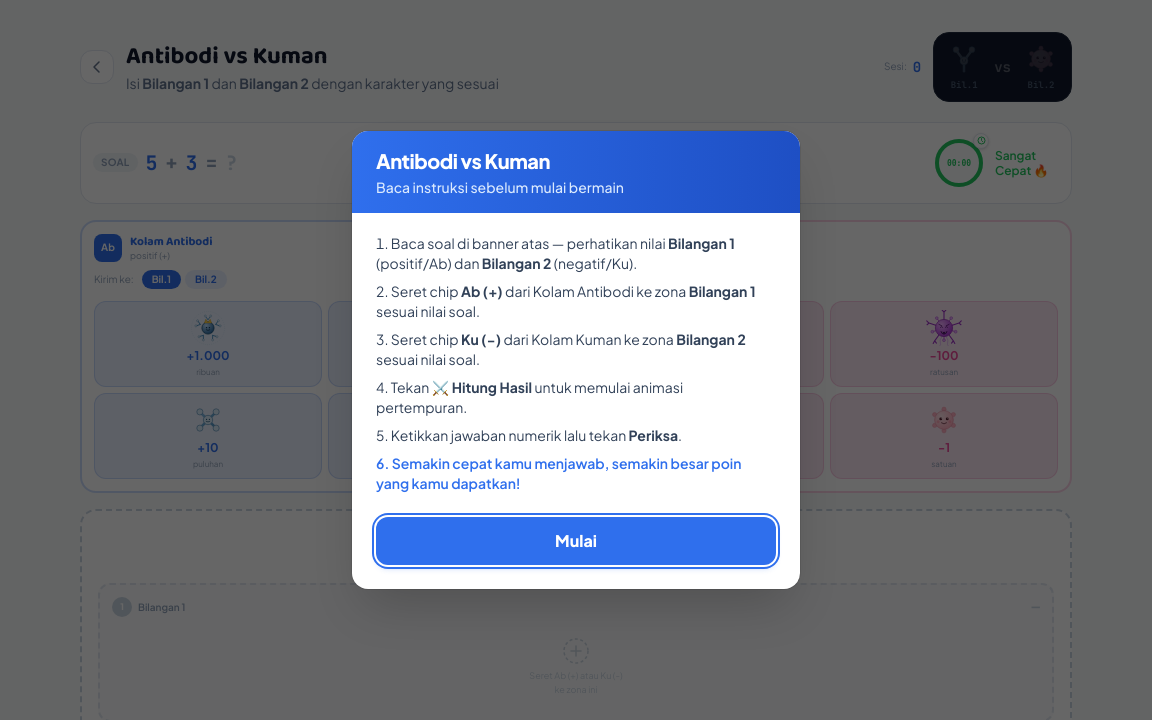
GameVirusPage — gameStarted state (game-intro-popup, Task 4.3) › setelah klik Mulai: modal tidak ada di DOM dan startTimer dipanggil tepat sekali
Click "Mulai"
Step 1. Click the button "Mulai" → point(576, 541), box [376,517,776,565]
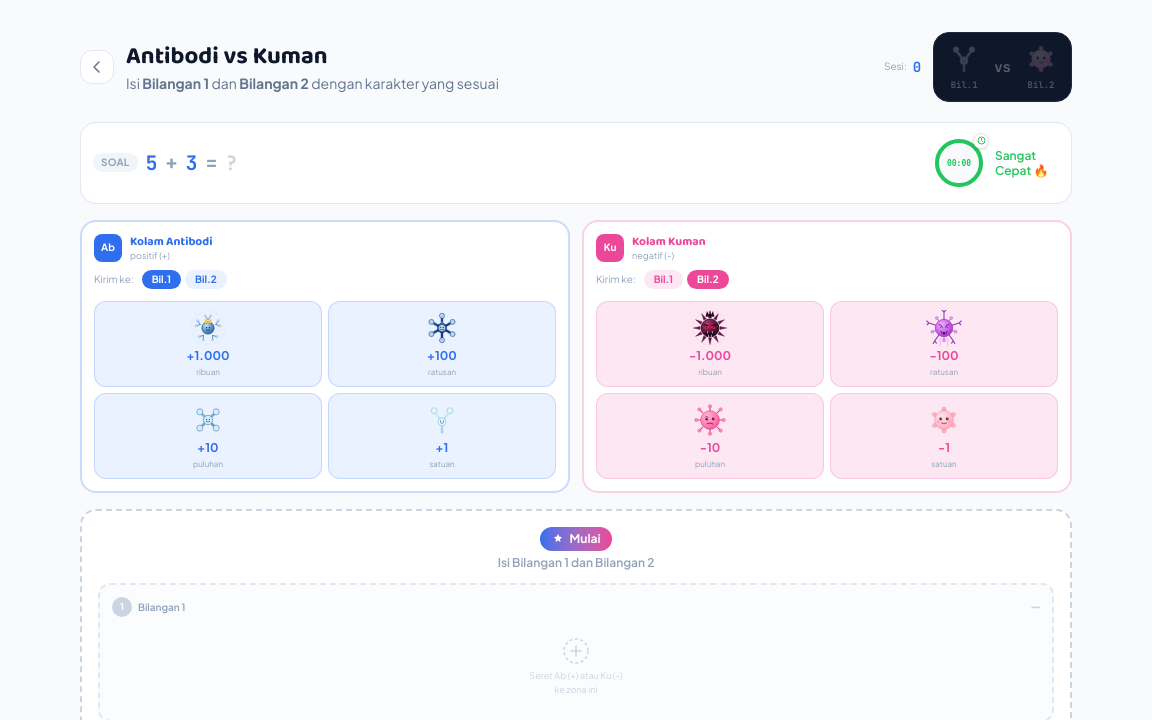
Now the dialog is gone
